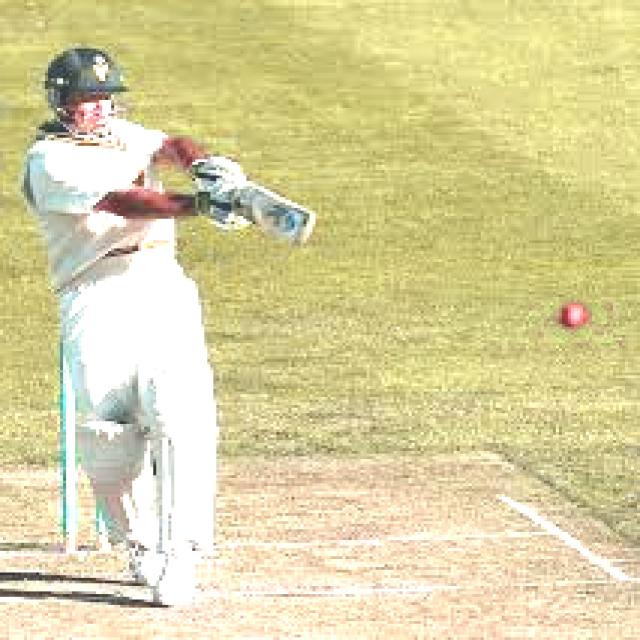toe: (288, 210, 319, 252)
